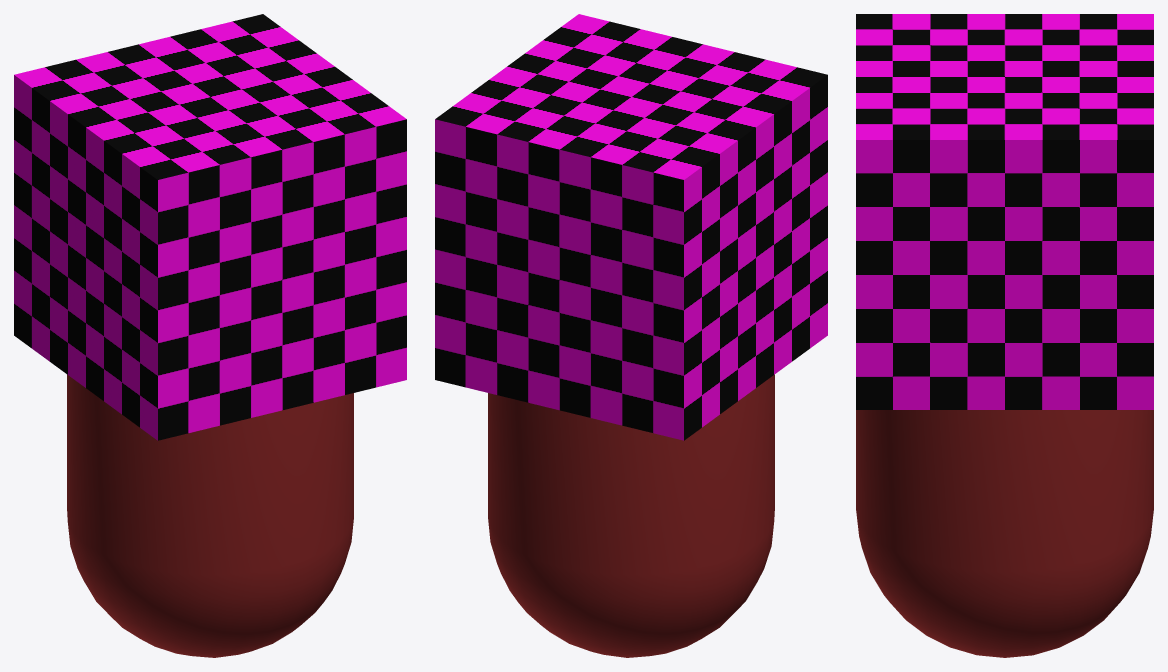
File: BlockHead.fbx
The picture shows the model from 3 angles, left to right: view 1: azimuth 30°, elevation 25°; view 2: azimuth 150°, elevation 25°; view 3: azimuth 270°, elevation 25°; orthographic projection. The views are drawn at different scales.
Parts seen in each view (by area): view 1: Model8; view 2: Model8; view 3: Model8.
Boxes of the visible parts, x1,y1,x2,y2 form: Model8: (14, 14, 406, 657); Model8: (435, 14, 827, 657); Model8: (856, 14, 1153, 657).
Bounding box in the file's own units: 100 × 210 × 100.
Materials: 2 (1 with a texture image).
